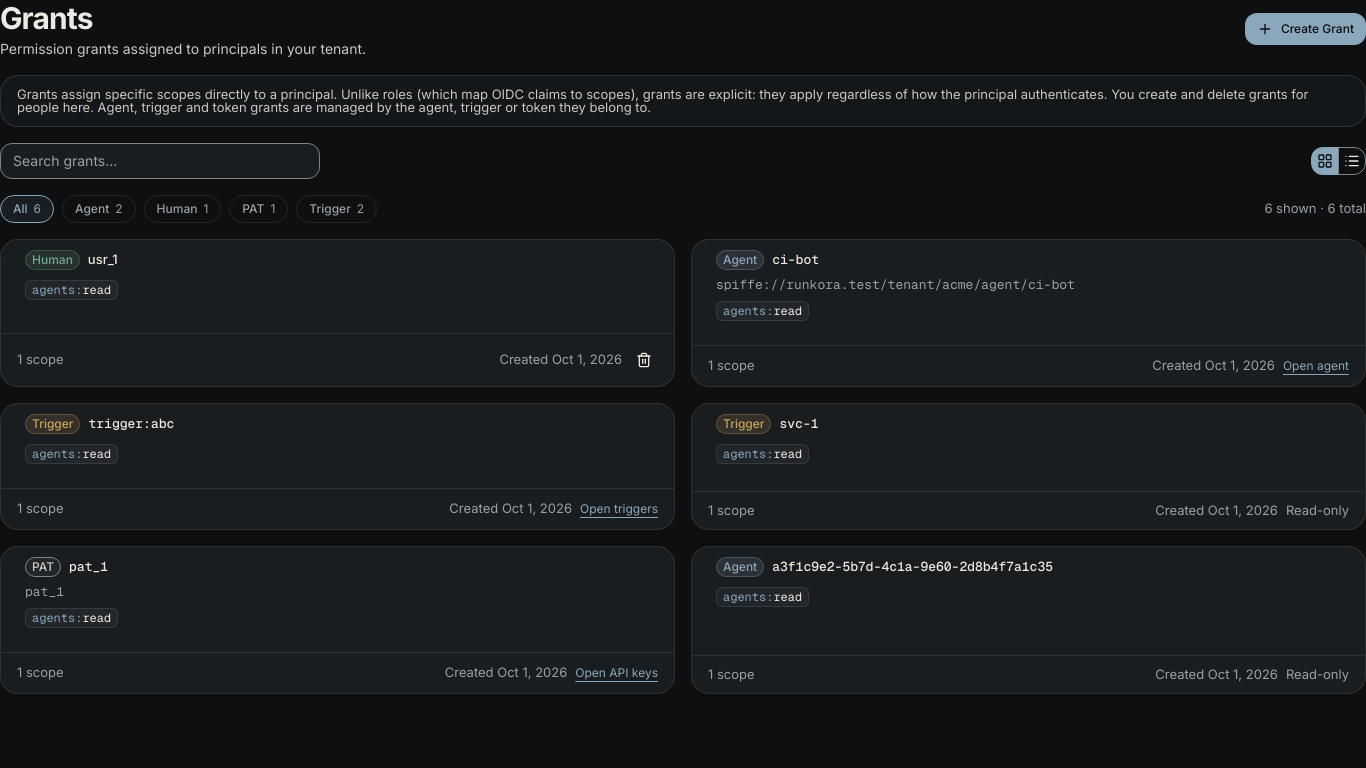
Test: GrantsTab › opens the human-only wizard from Create Grant
Click the button "Create Grant". click: (1305, 29)
box: [1245, 13, 1365, 45]
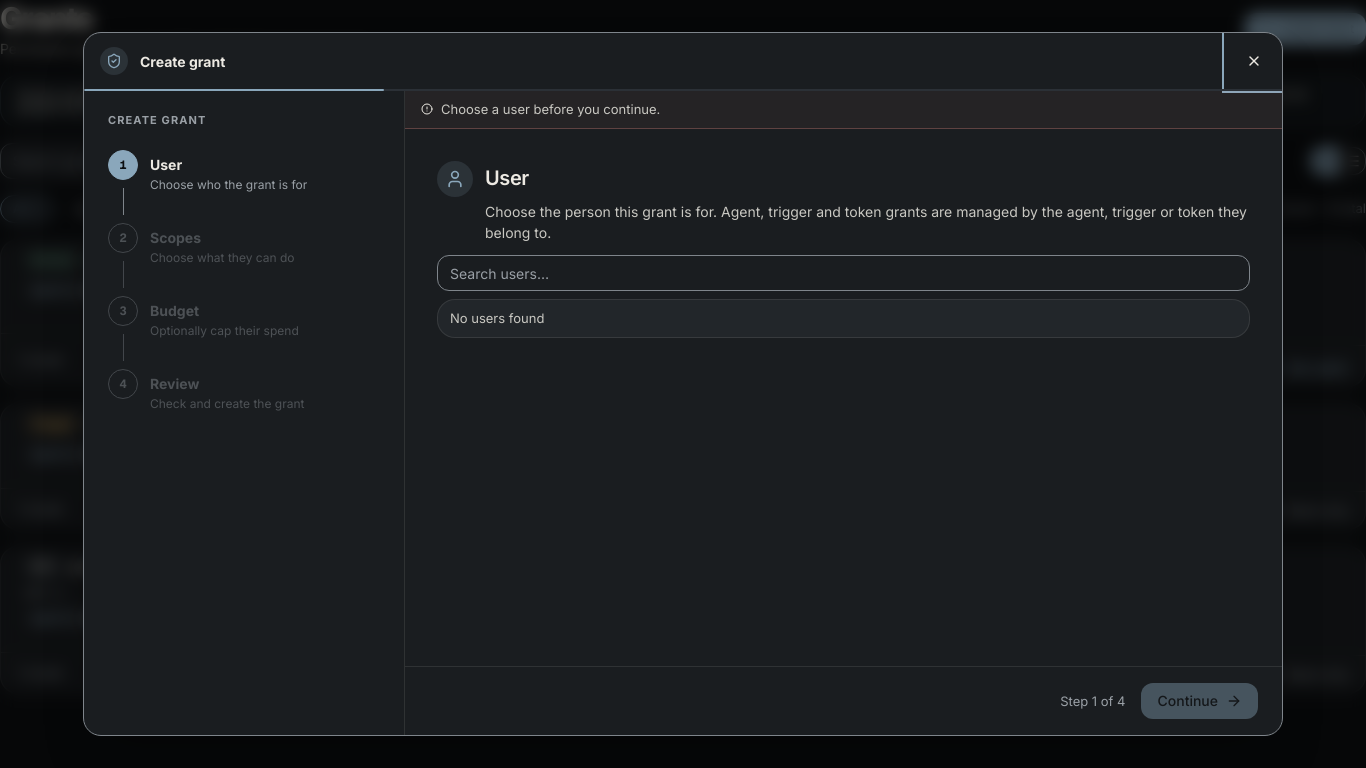
Result: the dialog is shown
